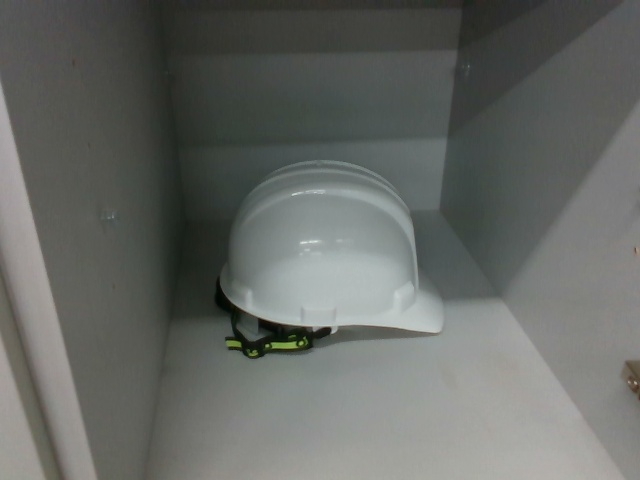helmet: (219, 155, 447, 364)
